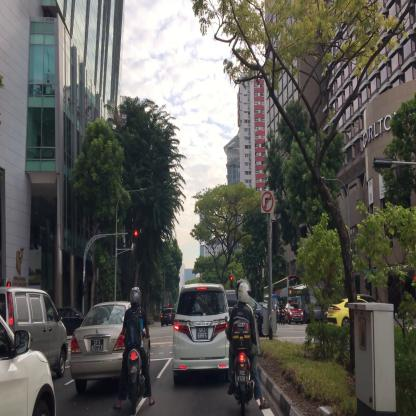red_traffic_light: (126, 229, 138, 237), (230, 276, 233, 289)
